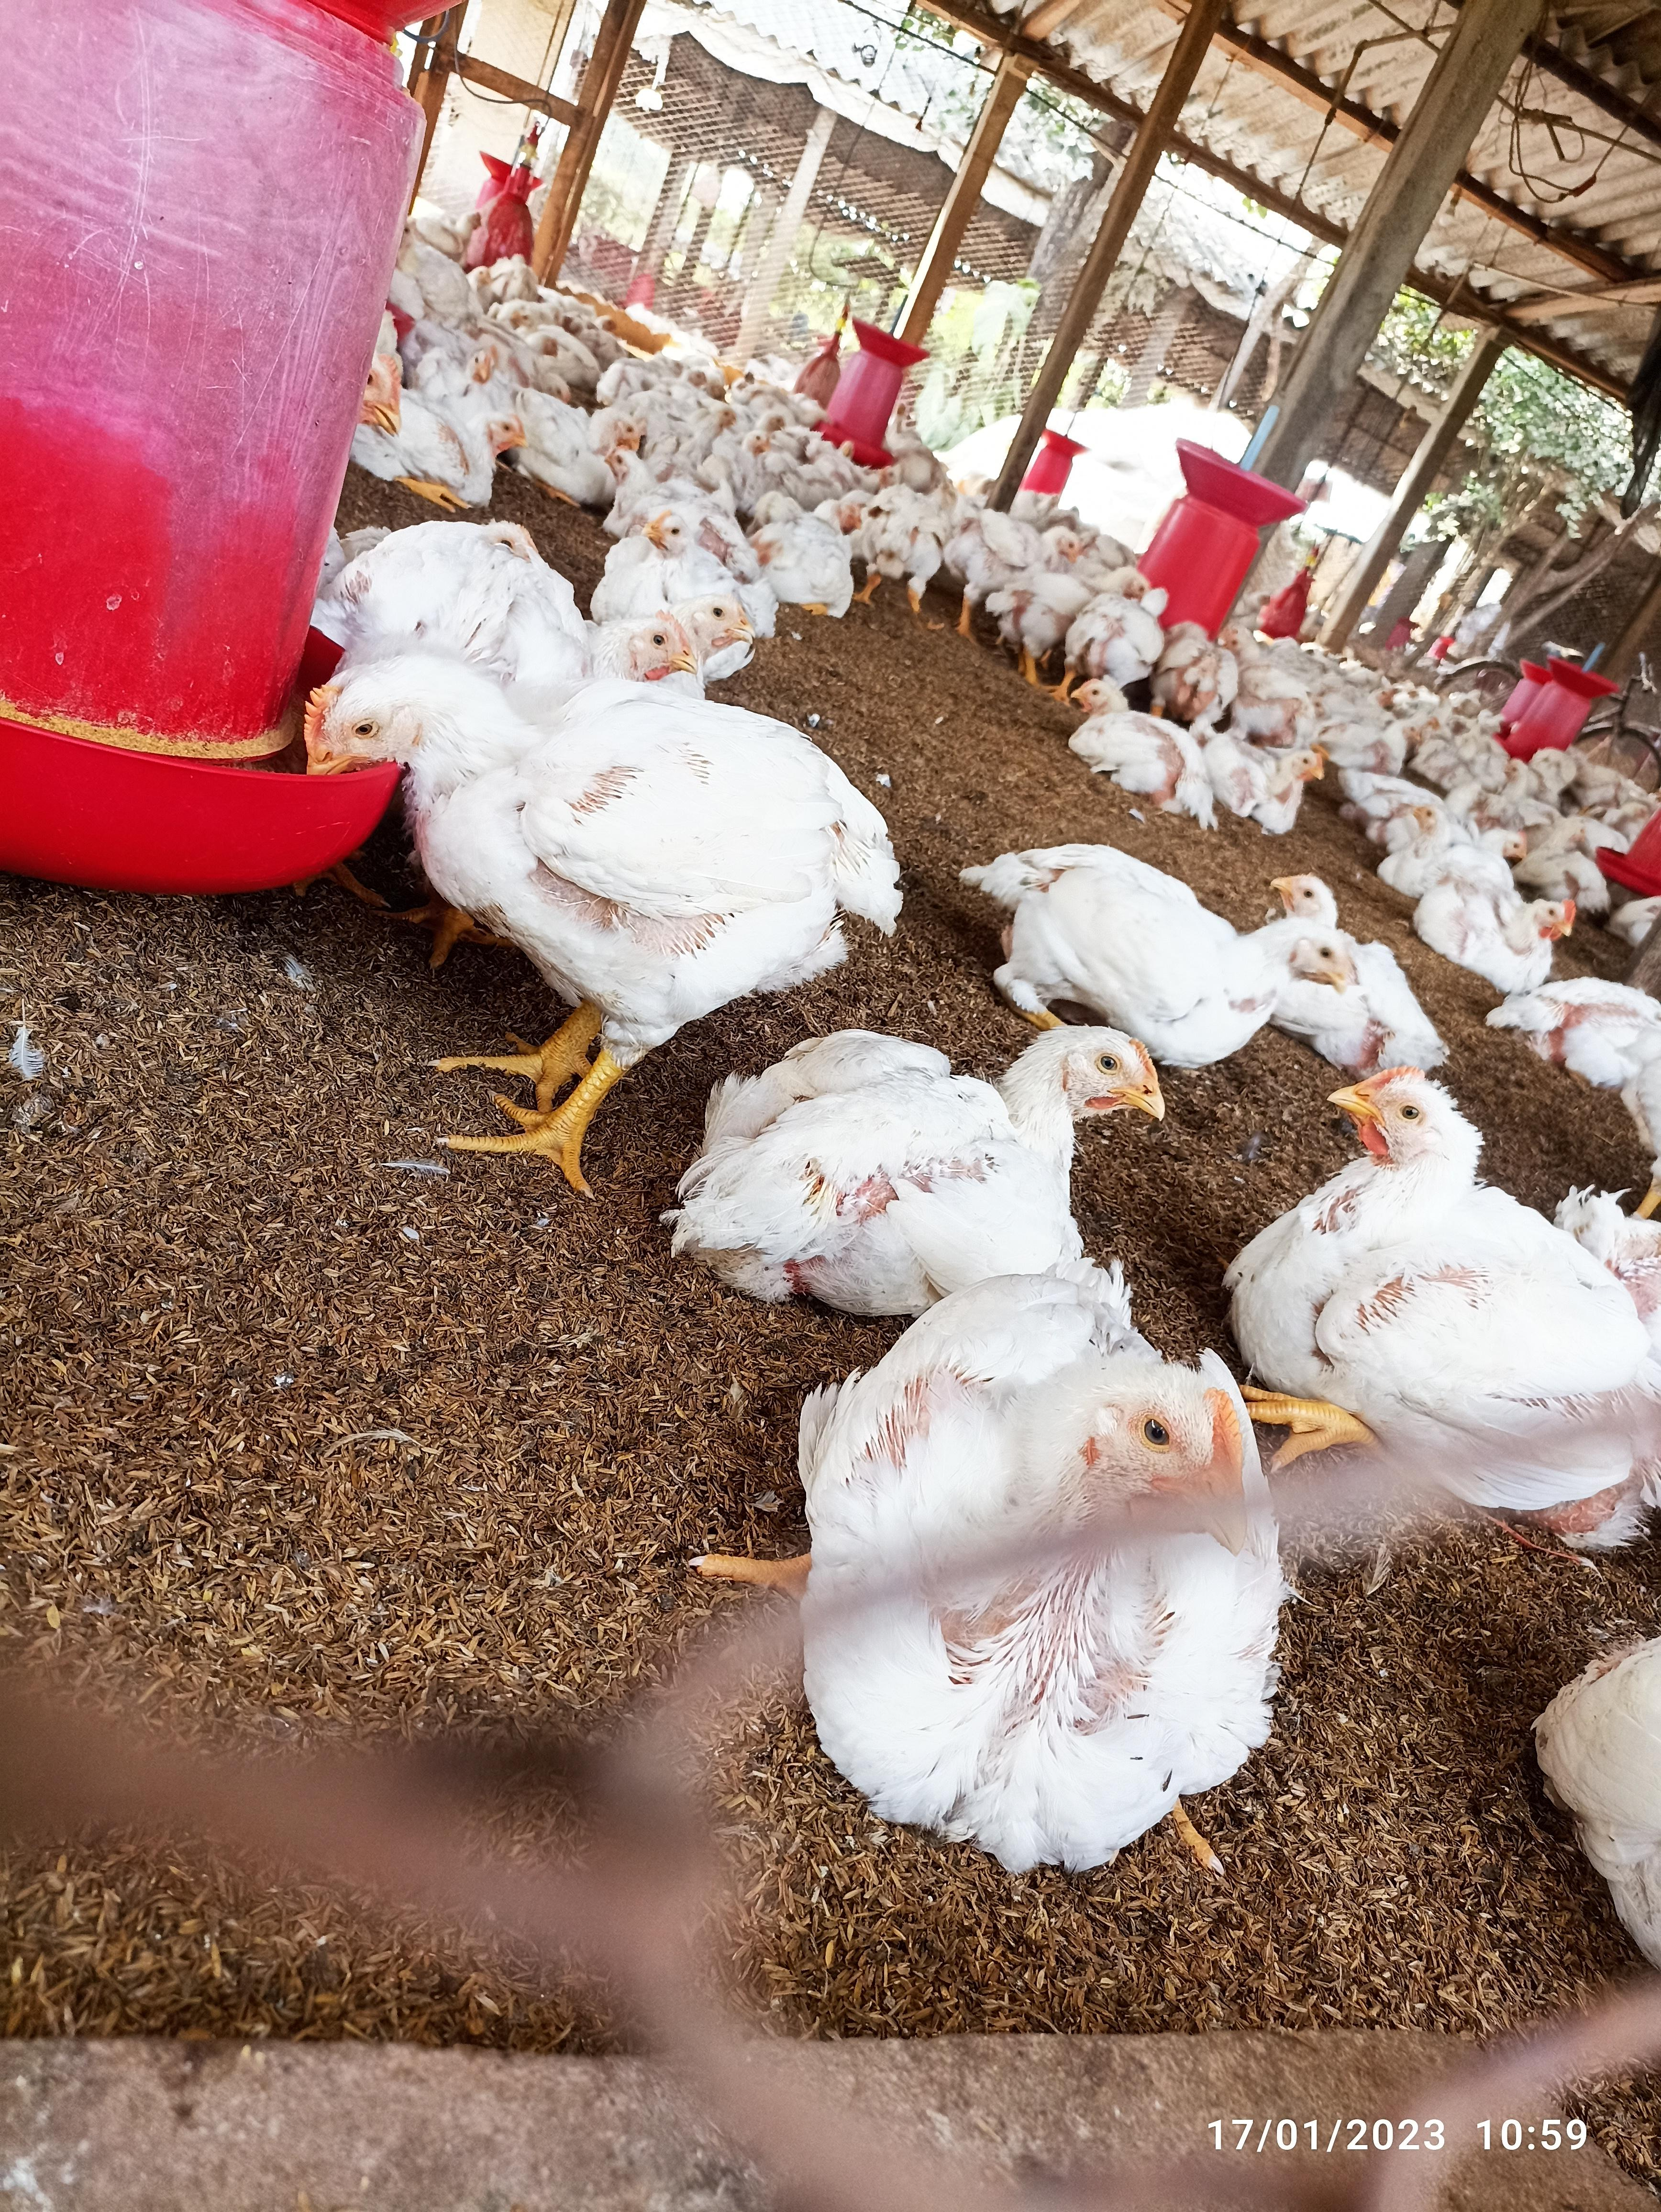Pollos: (818, 1282, 1288, 1847), (305, 654, 892, 1012), (1220, 1069, 1661, 1521), (684, 1022, 1162, 1291), (970, 839, 1347, 1089), (1064, 675, 1213, 827), (1425, 860, 1577, 998), (356, 405, 541, 506), (600, 509, 757, 625), (750, 504, 848, 614), (525, 399, 639, 492), (1066, 584, 1183, 673), (953, 516, 1080, 591), (1221, 741, 1333, 815)
